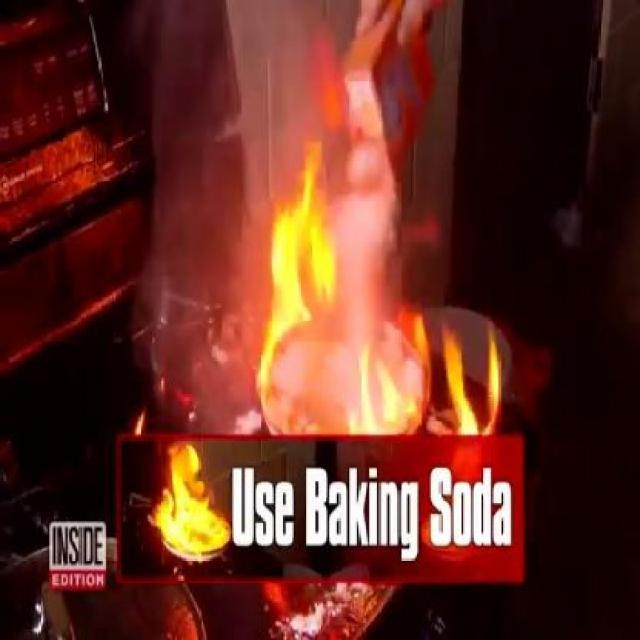fire: (273, 203, 330, 352), (440, 338, 506, 440), (152, 466, 223, 556), (362, 356, 406, 432)
smoke: (178, 21, 250, 327), (338, 202, 397, 312), (259, 26, 304, 169)
